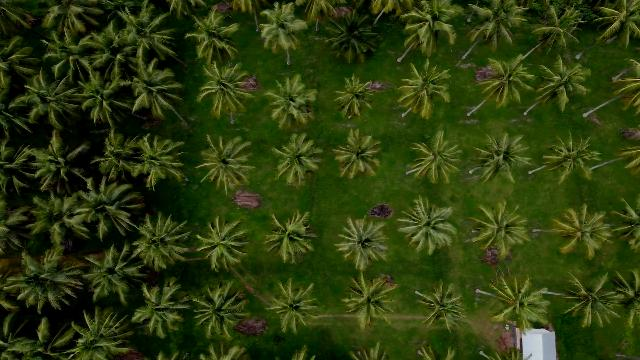trees: (5, 247, 89, 313), (19, 70, 91, 136), (28, 136, 103, 198), (125, 214, 199, 276), (83, 244, 153, 307), (78, 180, 152, 239), (558, 272, 630, 330), (56, 308, 137, 359), (465, 200, 533, 260), (73, 69, 135, 134), (485, 276, 553, 334), (119, 134, 189, 190), (396, 197, 459, 258), (530, 55, 594, 115), (188, 283, 253, 342), (397, 2, 463, 60), (195, 135, 257, 196), (128, 63, 188, 126), (120, 12, 184, 71), (198, 63, 259, 124), (550, 204, 616, 260), (31, 191, 97, 247), (473, 56, 540, 111), (133, 280, 194, 340), (187, 9, 243, 72), (395, 61, 453, 121), (193, 218, 254, 275), (321, 8, 382, 65), (256, 3, 310, 67), (470, 133, 535, 186), (466, 2, 531, 55), (539, 132, 605, 184), (342, 274, 399, 333), (264, 280, 322, 336), (334, 216, 391, 272), (262, 211, 320, 266), (405, 131, 464, 185), (264, 76, 320, 131), (414, 282, 469, 335), (273, 133, 325, 189), (531, 6, 588, 56), (333, 129, 384, 182), (44, 2, 105, 42), (591, 2, 640, 50), (332, 74, 381, 121), (607, 268, 640, 330), (609, 196, 640, 253), (610, 59, 640, 115), (229, 1, 274, 33), (303, 2, 337, 33), (614, 144, 640, 179)
